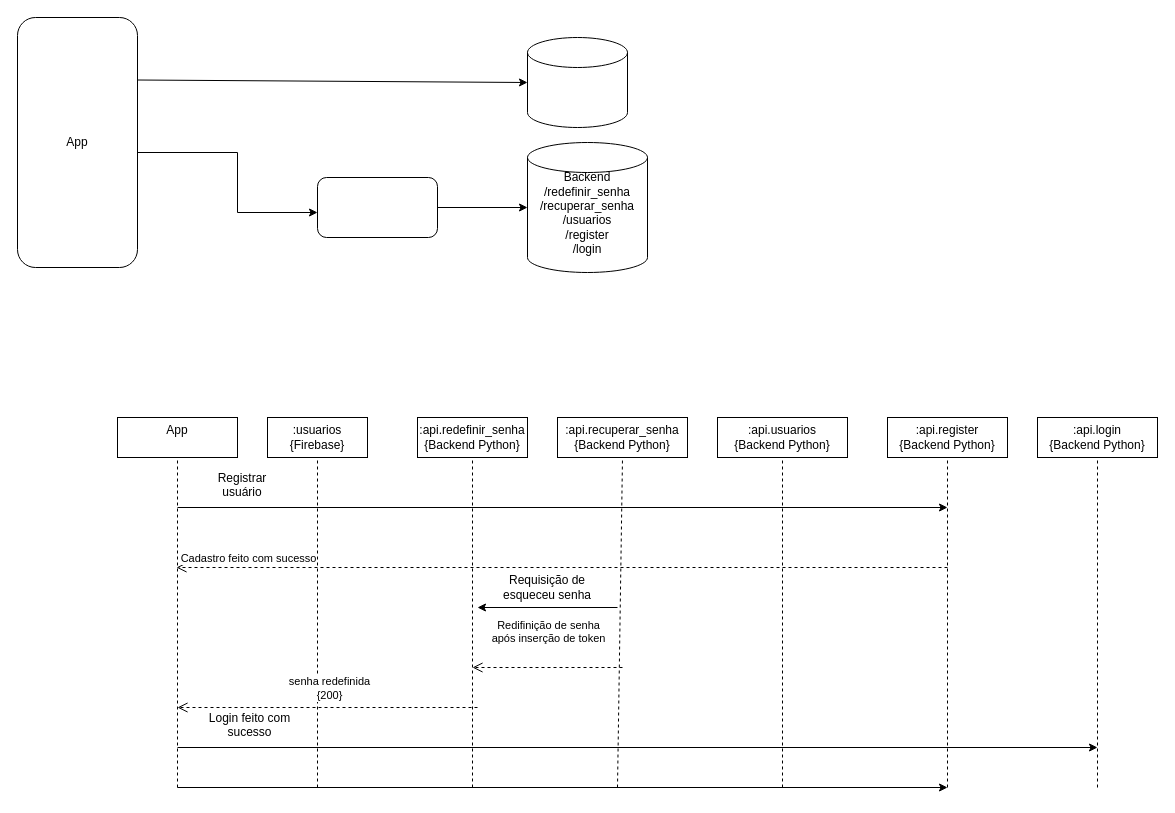
The diagram is 1175 pixels wide and 813 high, and some of its shapes have lost their labels. Here are the shapes that lost their labels. From the top down, the centre of each, then its label:
the point at 577,82: Firebase /usuarios /usuarios
the point at 377,207: BackEnd {Python}
